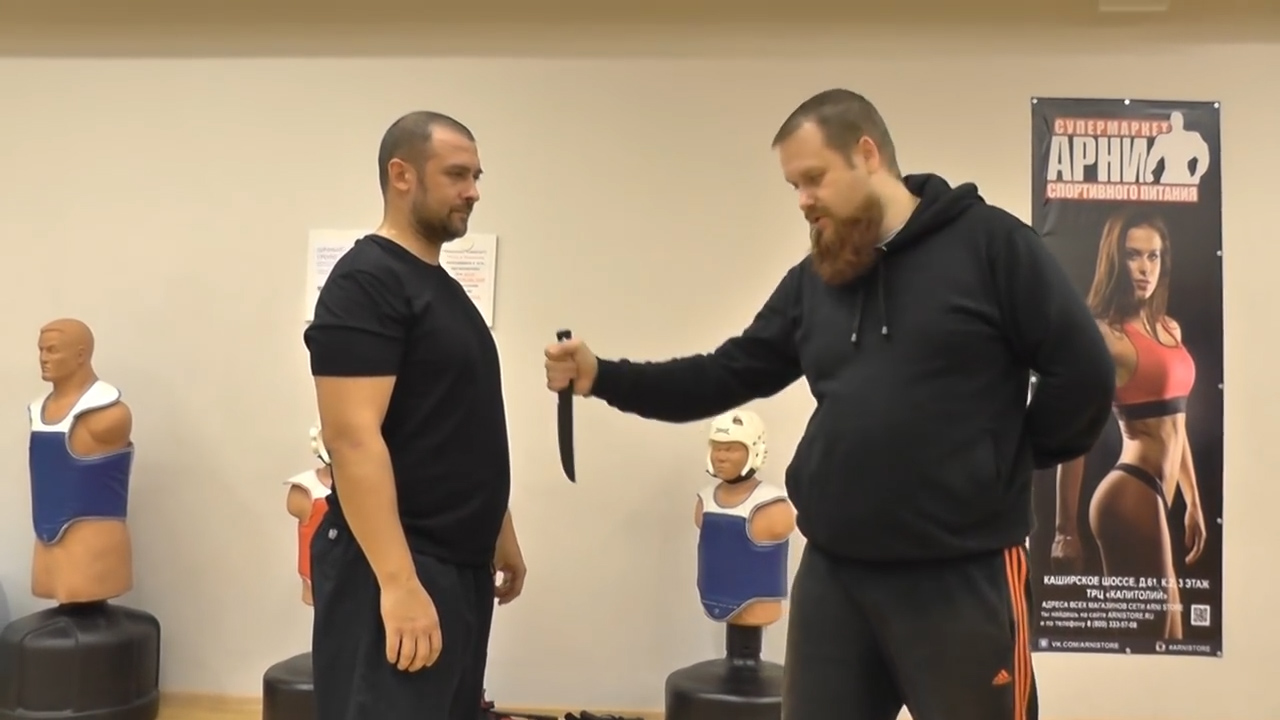knife: (537, 323, 586, 487)
